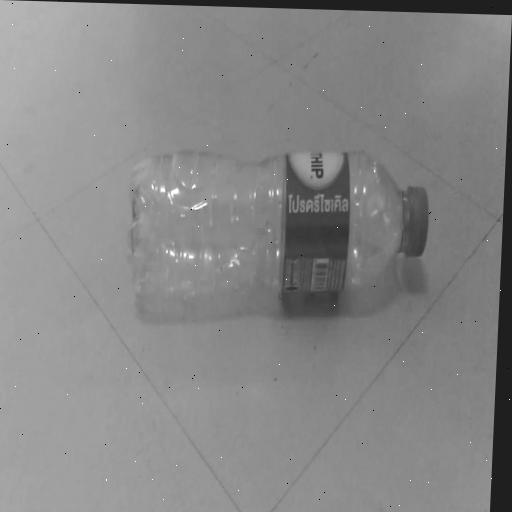bottle: (92, 106, 441, 368)
